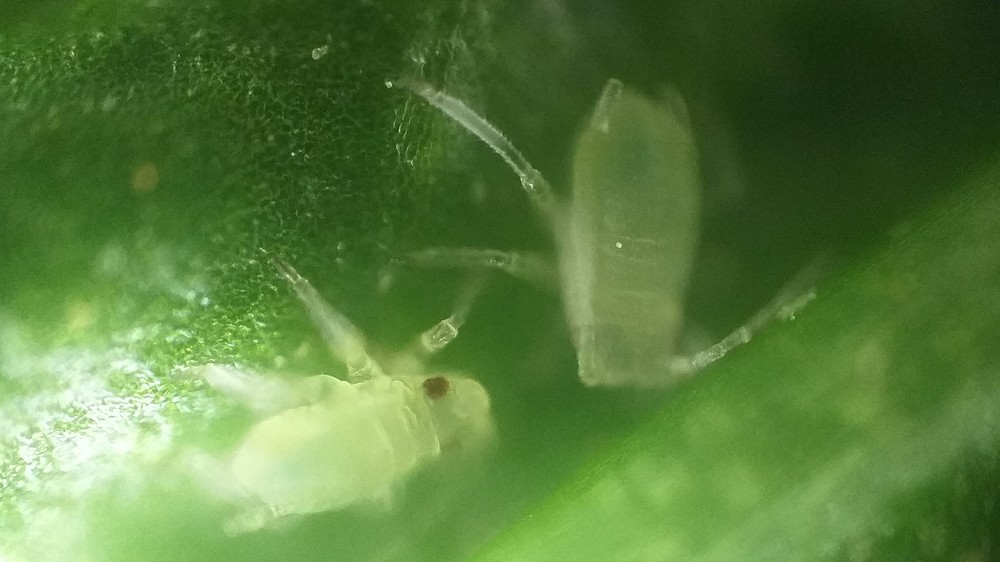Pulgon: (442, 41, 838, 439), (136, 266, 538, 544)
